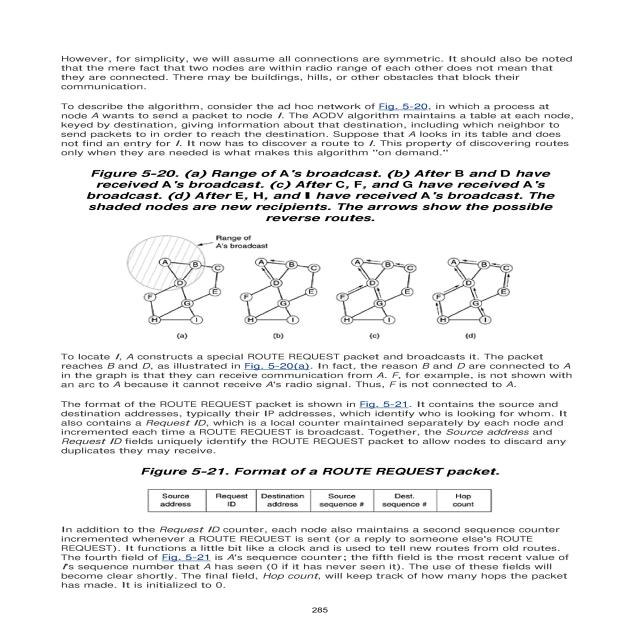diagram: (65, 167, 601, 345)
